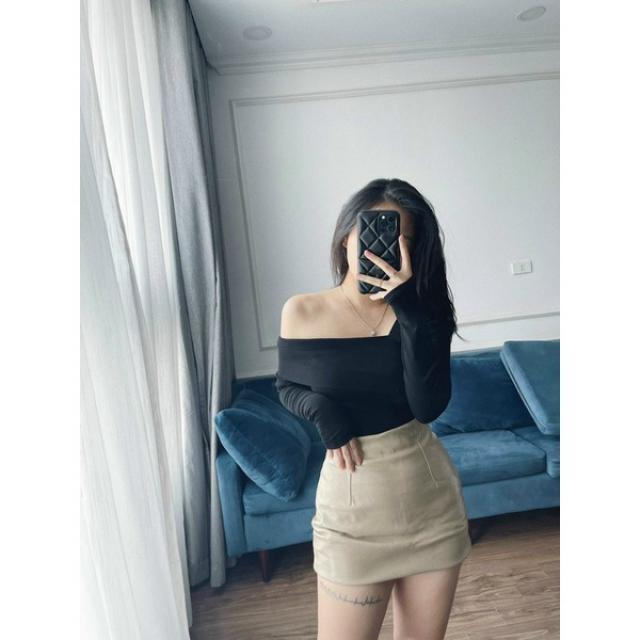Shirt: (270, 272, 458, 443)
